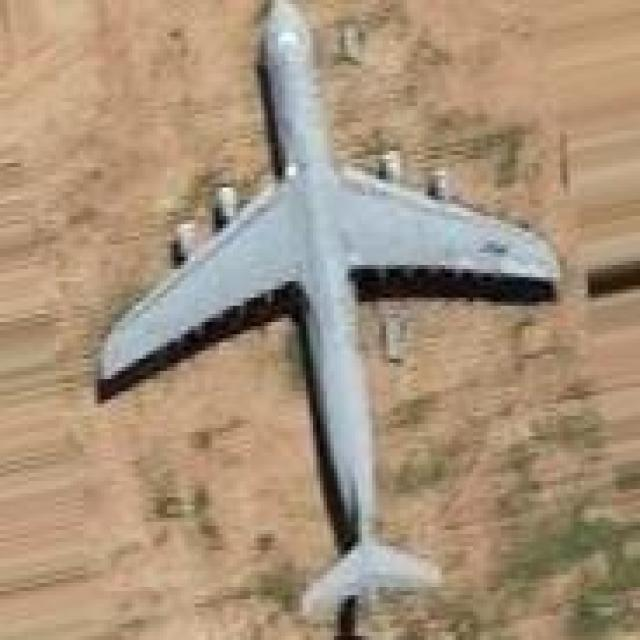C-5_TopDown: (87, 0, 565, 640)
